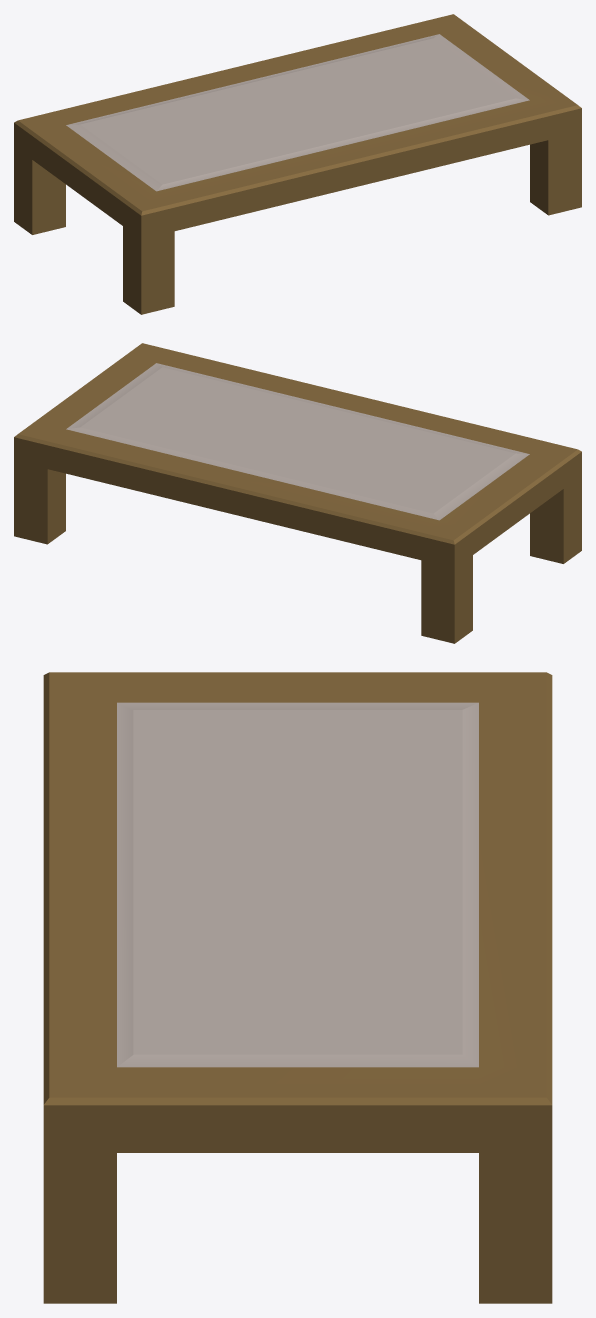
Rendered from Table.fbx.
3 views of the same model, one above another, from view 1: azimuth 30°, elevation 25°; view 2: azimuth 150°, elevation 25°; view 3: azimuth 270°, elevation 25° (orthographic). The views are drawn at different scales.
Parts seen in each view (by area): view 1: Table; view 2: Table; view 3: Table.
Boxes of the visible parts, bbox=[...] form: Table: bbox=[14, 14, 581, 314]; Table: bbox=[14, 343, 581, 643]; Table: bbox=[43, 672, 552, 1303].
Bounding box in the file's own units: 2 × 0.4471 × 1.
